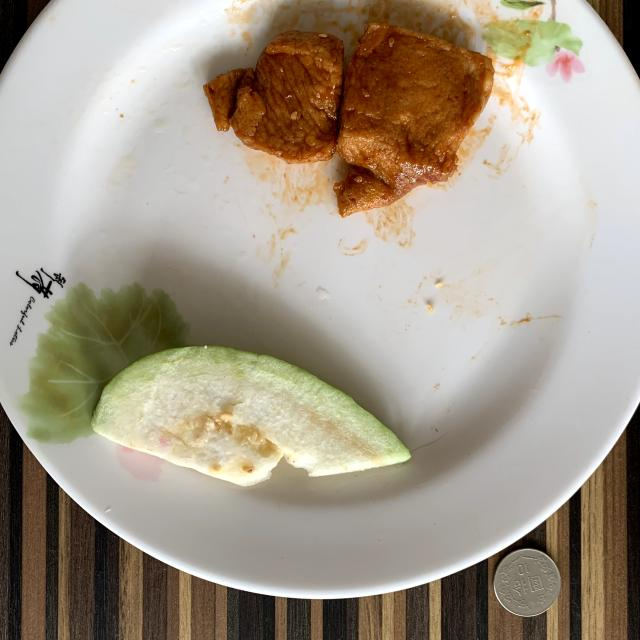coin: (494, 549, 561, 616)
creamy tofu: (204, 24, 494, 216)
guava -sliced-: (91, 346, 410, 486)
